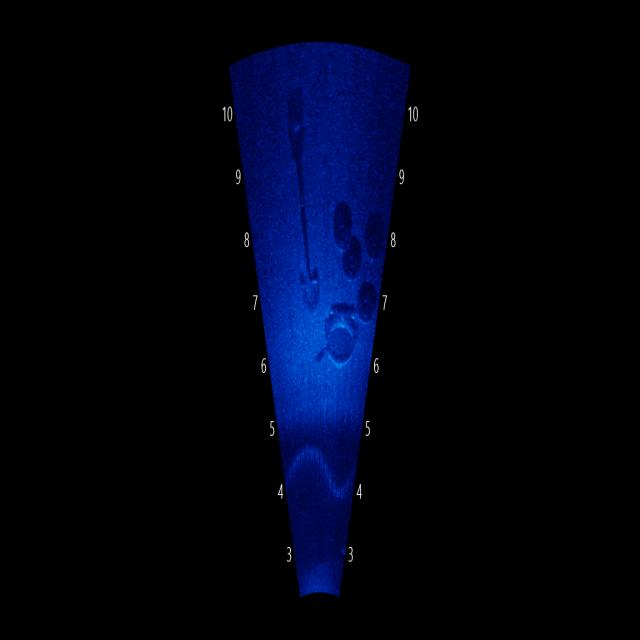circle: (318, 298, 362, 376)
